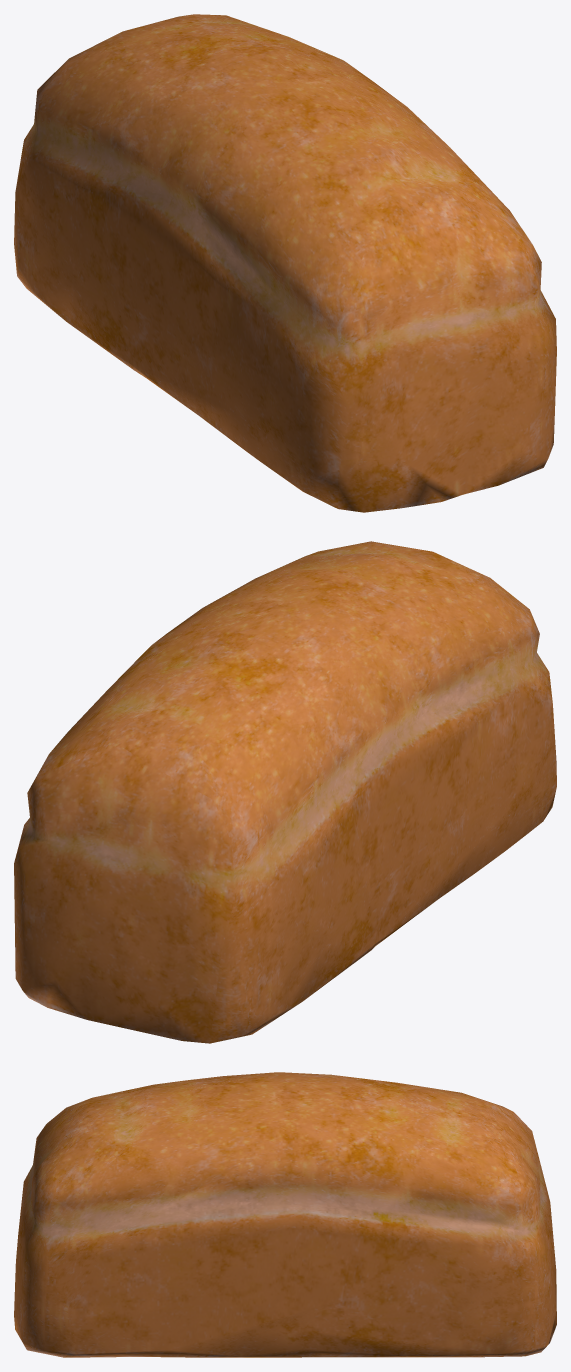
Rendered from Bread_5.obj.
3 views of the same model, one above another, from view 1: azimuth 30°, elevation 25°; view 2: azimuth 150°, elevation 25°; view 3: azimuth 270°, elevation 25° (orthographic). The views are drawn at different scales.
Visible parts, largest first — view 1: bread2_b_mesh; view 2: bread2_b_mesh; view 3: bread2_b_mesh.
Boxes of the visible parts, x1,y1,x2,y2 form: bread2_b_mesh: (14,14,556,512); bread2_b_mesh: (14,541,556,1043); bread2_b_mesh: (14,1072,556,1357).
Size of the model in its own units: 0.138 by 0.1558 by 0.3279.
